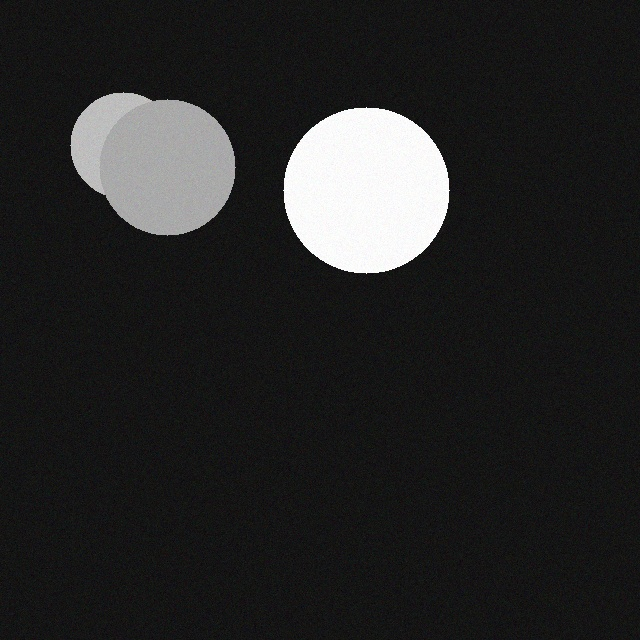circle: (268, 109, 434, 275), (84, 101, 220, 237), (55, 94, 161, 200)
